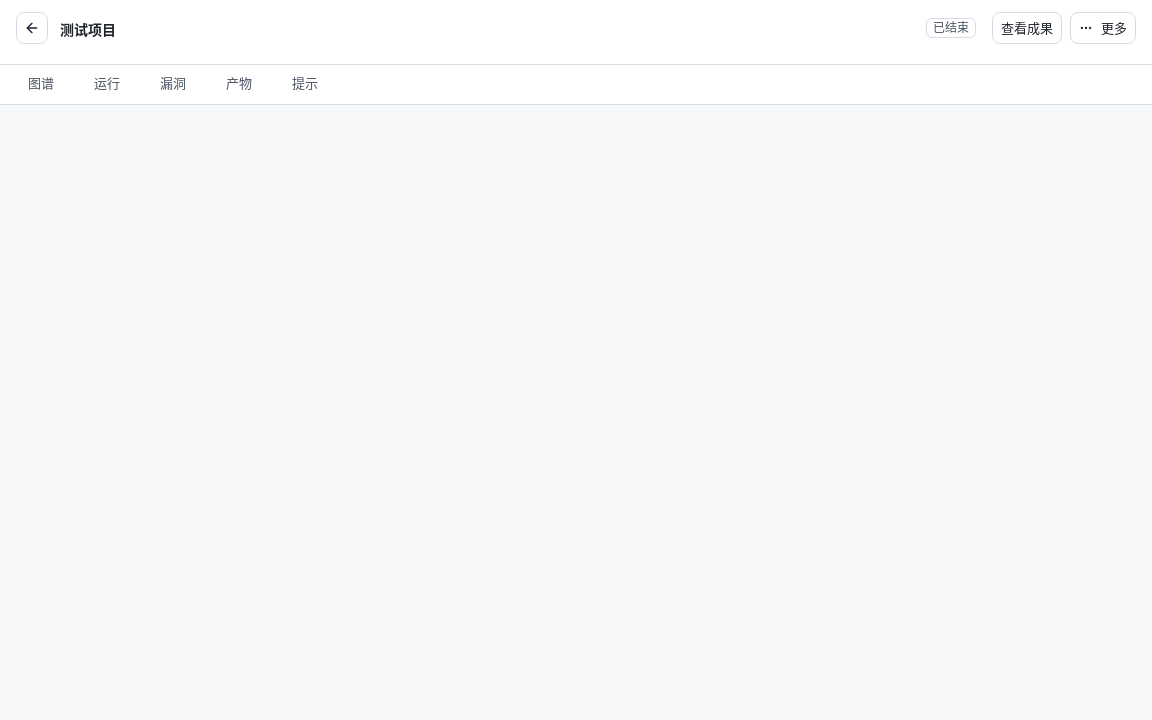
Scenario: ProjectWorkspace shared control migration › keeps resource mutation available with a trusted v2 stopped snapshot
The width and height of the screenshot is (1152, 720).
Click the button with aria-label "项目更多操作".
click(1103, 28)  # box [1070, 12, 1136, 44]
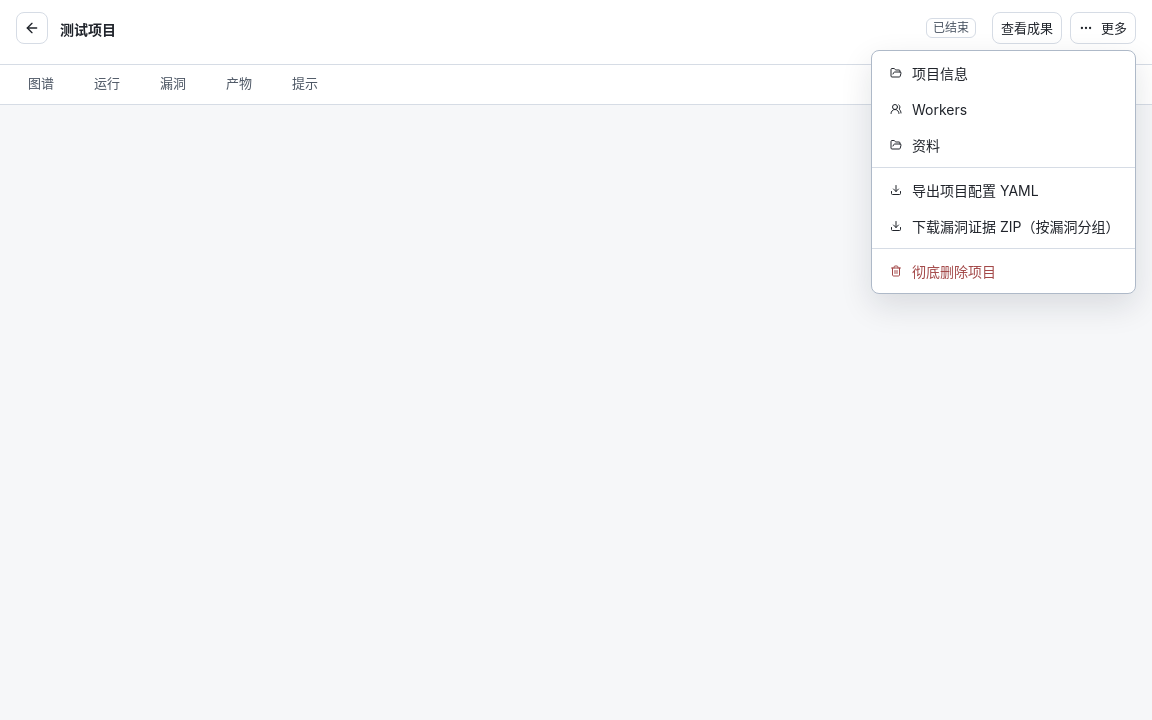
Click the menu item "资料".
click(915, 145)  # box [890, 136, 940, 154]
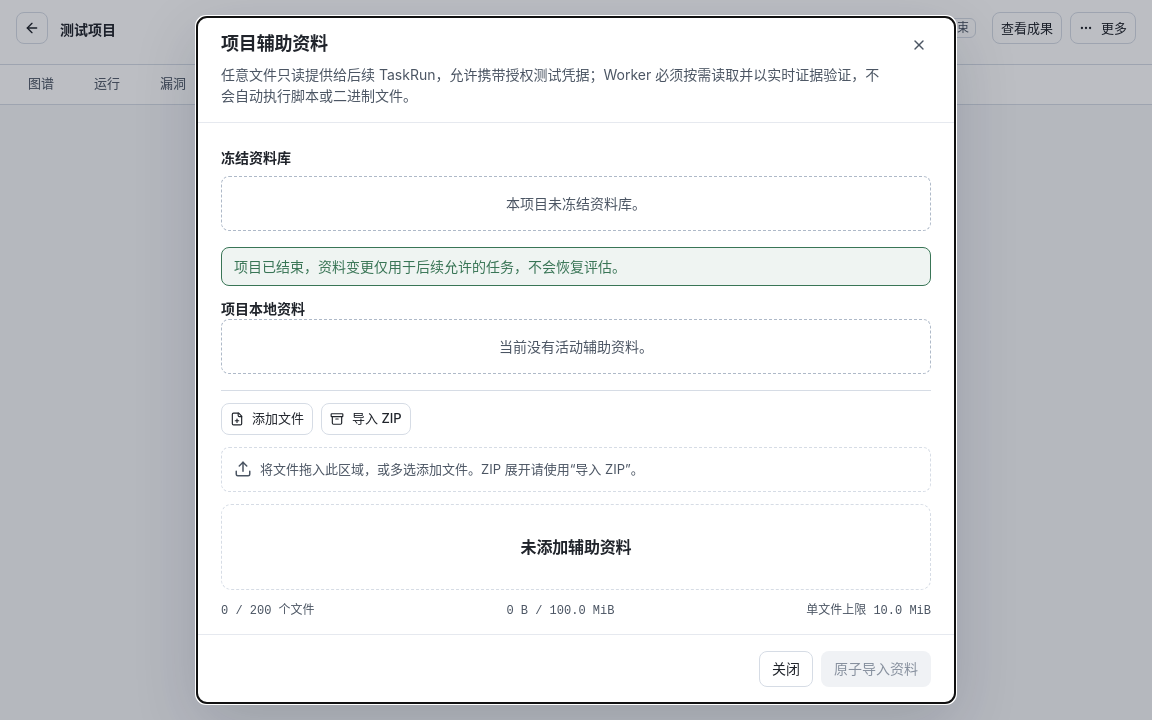
Result: the text with class "resource-mutation-note" shows "资料变更仅用于后续允许的任务" at [234, 258, 626, 274]
